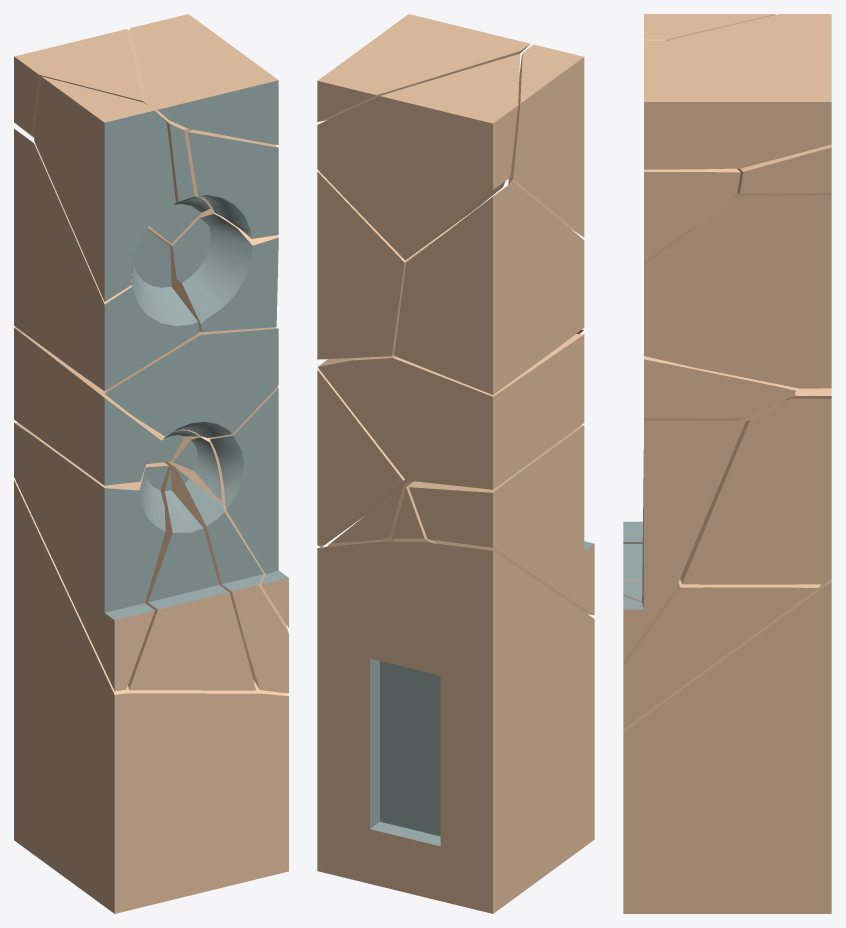
The model's file is speaker_broken.glb.
3 views of the same model, side by side, from view 1: azimuth 30°, elevation 25°; view 2: azimuth 150°, elevation 25°; view 3: azimuth 270°, elevation 25° (orthographic). The views are drawn at different scales.
Visible parts, largest first — view 1: speaker(Clone)_cell.005, speaker(Clone)_cell.009, speaker(Clone)_cell.007, speaker(Clone)_cell.006, speaker(Clone)_cell.003, speaker(Clone)_cell, speaker(Clone)_cell.013, speaker(Clone)_cell.010, speaker(Clone)_cell.002, speaker(Clone)_cell.004, speaker(Clone)_cell.008, speaker(Clone)_cell.012 (+2 smaller); view 2: speaker(Clone)_cell.005, speaker(Clone)_cell.009, speaker(Clone)_cell.004, speaker(Clone)_cell.010, speaker(Clone)_cell.007, speaker(Clone)_cell.002, speaker(Clone)_cell.006, speaker(Clone)_cell.013, speaker(Clone)_cell.001, speaker(Clone)_cell.008, speaker(Clone)_cell.003; view 3: speaker(Clone)_cell.005, speaker(Clone)_cell.002, speaker(Clone)_cell.001, speaker(Clone)_cell.013, speaker(Clone)_cell.012, speaker(Clone)_cell.008, speaker(Clone)_cell.004, speaker(Clone)_cell, speaker(Clone)_cell.011, speaker(Clone)_cell.006, speaker(Clone)_cell.003, speaker(Clone)_cell.007.
Part boxes in pixels (x1=…): speaker(Clone)_cell.005: x1=14, y1=480, x2=288, y2=913; speaker(Clone)_cell.009: x1=14, y1=129, x2=199, y2=391; speaker(Clone)_cell.007: x1=14, y1=422, x2=168, y2=691; speaker(Clone)_cell.006: x1=34, y1=76, x2=175, y2=301; speaker(Clone)_cell.003: x1=128, y1=466, x2=255, y2=690; speaker(Clone)_cell: x1=105, y1=327, x2=278, y2=437; speaker(Clone)_cell.013: x1=129, y1=14, x2=278, y2=145; speaker(Clone)_cell.010: x1=14, y1=327, x2=199, y2=485; speaker(Clone)_cell.002: x1=147, y1=206, x2=278, y2=332; speaker(Clone)_cell.004: x1=14, y1=29, x2=211, y2=243; speaker(Clone)_cell.008: x1=164, y1=462, x2=288, y2=693; speaker(Clone)_cell.012: x1=210, y1=387, x2=288, y2=627; speaker(Clone)_cell.005: x1=317, y1=542, x2=594, y2=913; speaker(Clone)_cell.009: x1=394, y1=182, x2=584, y2=394; speaker(Clone)_cell.004: x1=317, y1=54, x2=520, y2=260; speaker(Clone)_cell.010: x1=318, y1=334, x2=584, y2=489; speaker(Clone)_cell.007: x1=409, y1=425, x2=594, y2=615; speaker(Clone)_cell.002: x1=317, y1=171, x2=474, y2=359; speaker(Clone)_cell.006: x1=508, y1=44, x2=584, y2=237; speaker(Clone)_cell.013: x1=317, y1=14, x2=530, y2=121; speaker(Clone)_cell.001: x1=317, y1=369, x2=408, y2=547; speaker(Clone)_cell.008: x1=326, y1=480, x2=413, y2=546; speaker(Clone)_cell.003: x1=392, y1=481, x2=436, y2=543; speaker(Clone)_cell.005: x1=623, y1=579, x2=831, y2=913; speaker(Clone)_cell.002: x1=644, y1=195, x2=831, y2=388; speaker(Clone)_cell.001: x1=680, y1=398, x2=831, y2=584; speaker(Clone)_cell.013: x1=644, y1=41, x2=831, y2=169; speaker(Clone)_cell.012: x1=623, y1=421, x2=745, y2=661; speaker(Clone)_cell.008: x1=623, y1=579, x2=820, y2=728; speaker(Clone)_cell.004: x1=668, y1=14, x2=831, y2=198; speaker(Clone)_cell: x1=644, y1=356, x2=796, y2=420; speaker(Clone)_cell.011: x1=644, y1=168, x2=740, y2=261; speaker(Clone)_cell.006: x1=644, y1=14, x2=775, y2=41; speaker(Clone)_cell.003: x1=623, y1=543, x2=642, y2=580; speaker(Clone)_cell.007: x1=623, y1=521, x2=642, y2=543.
Bounding box in the file's own units: 0.148 × 0.6364 × 0.148.
